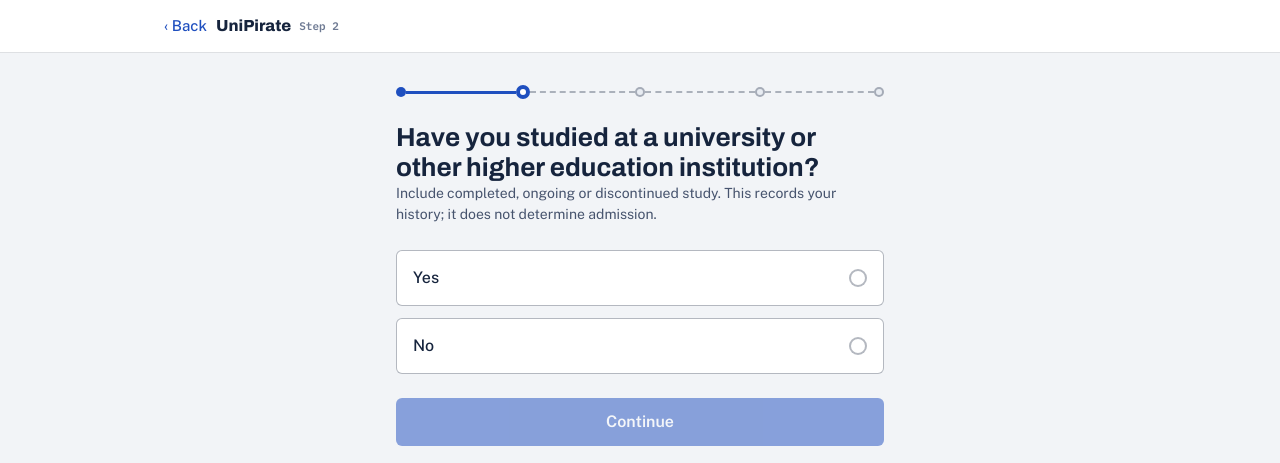
Test: refresh on the degree question retains Back's position rather than skipping the prefilled answer
This screenshot has width=1280, height=463.
Click the button "‹ Back" at (186, 26), box [164,4,208,48]
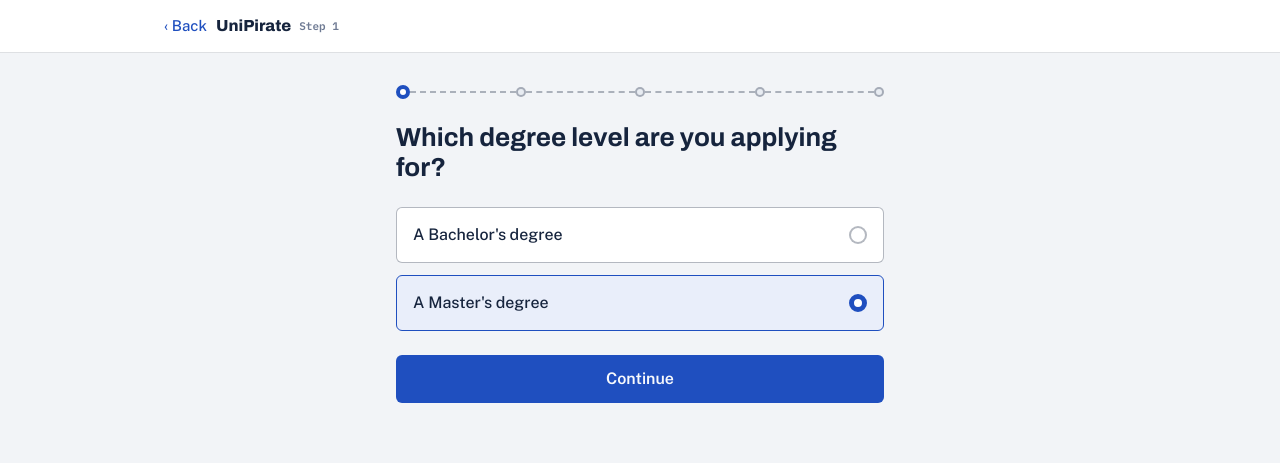
Expected: the heading "Which degree level are you applying for?" is shown, [396,123,884,183]
